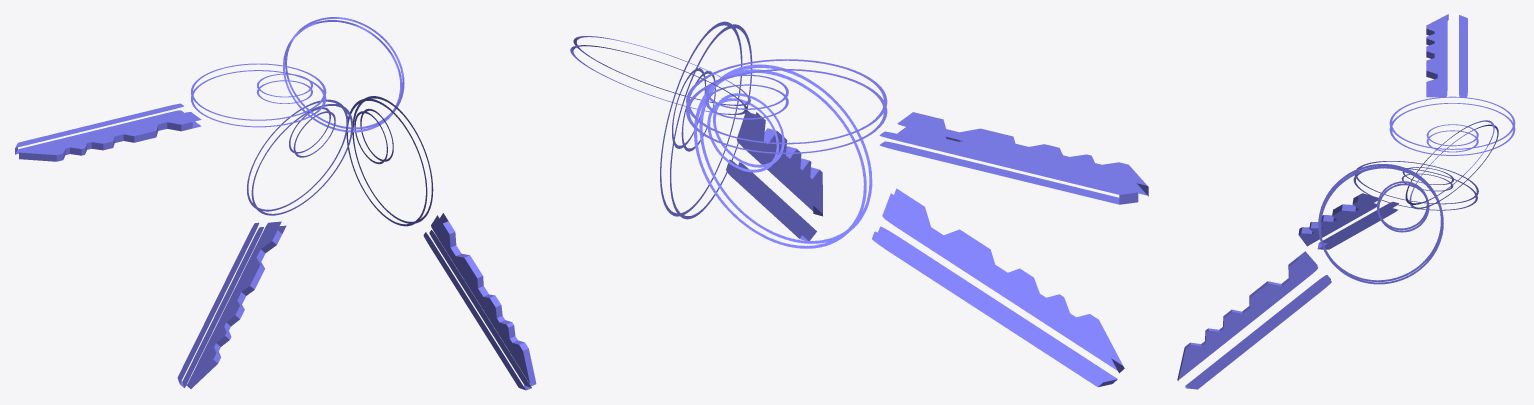
Rendered from Keys1.fbx.
3 renders of one model, left to right at view 1: azimuth 30°, elevation 25°; view 2: azimuth 150°, elevation 25°; view 3: azimuth 270°, elevation 25°, orthographic. The views are drawn at different scales.
Visible parts, largest first — view 1: Keys; view 2: Keys; view 3: Keys.
Boxes of the visible parts, <box> form: Keys: <box>15,17,536,390</box>; Keys: <box>570,21,1148,387</box>; Keys: <box>1177,14,1515,389</box>.
Size of the model in its own units: 427 by 281 by 355.
